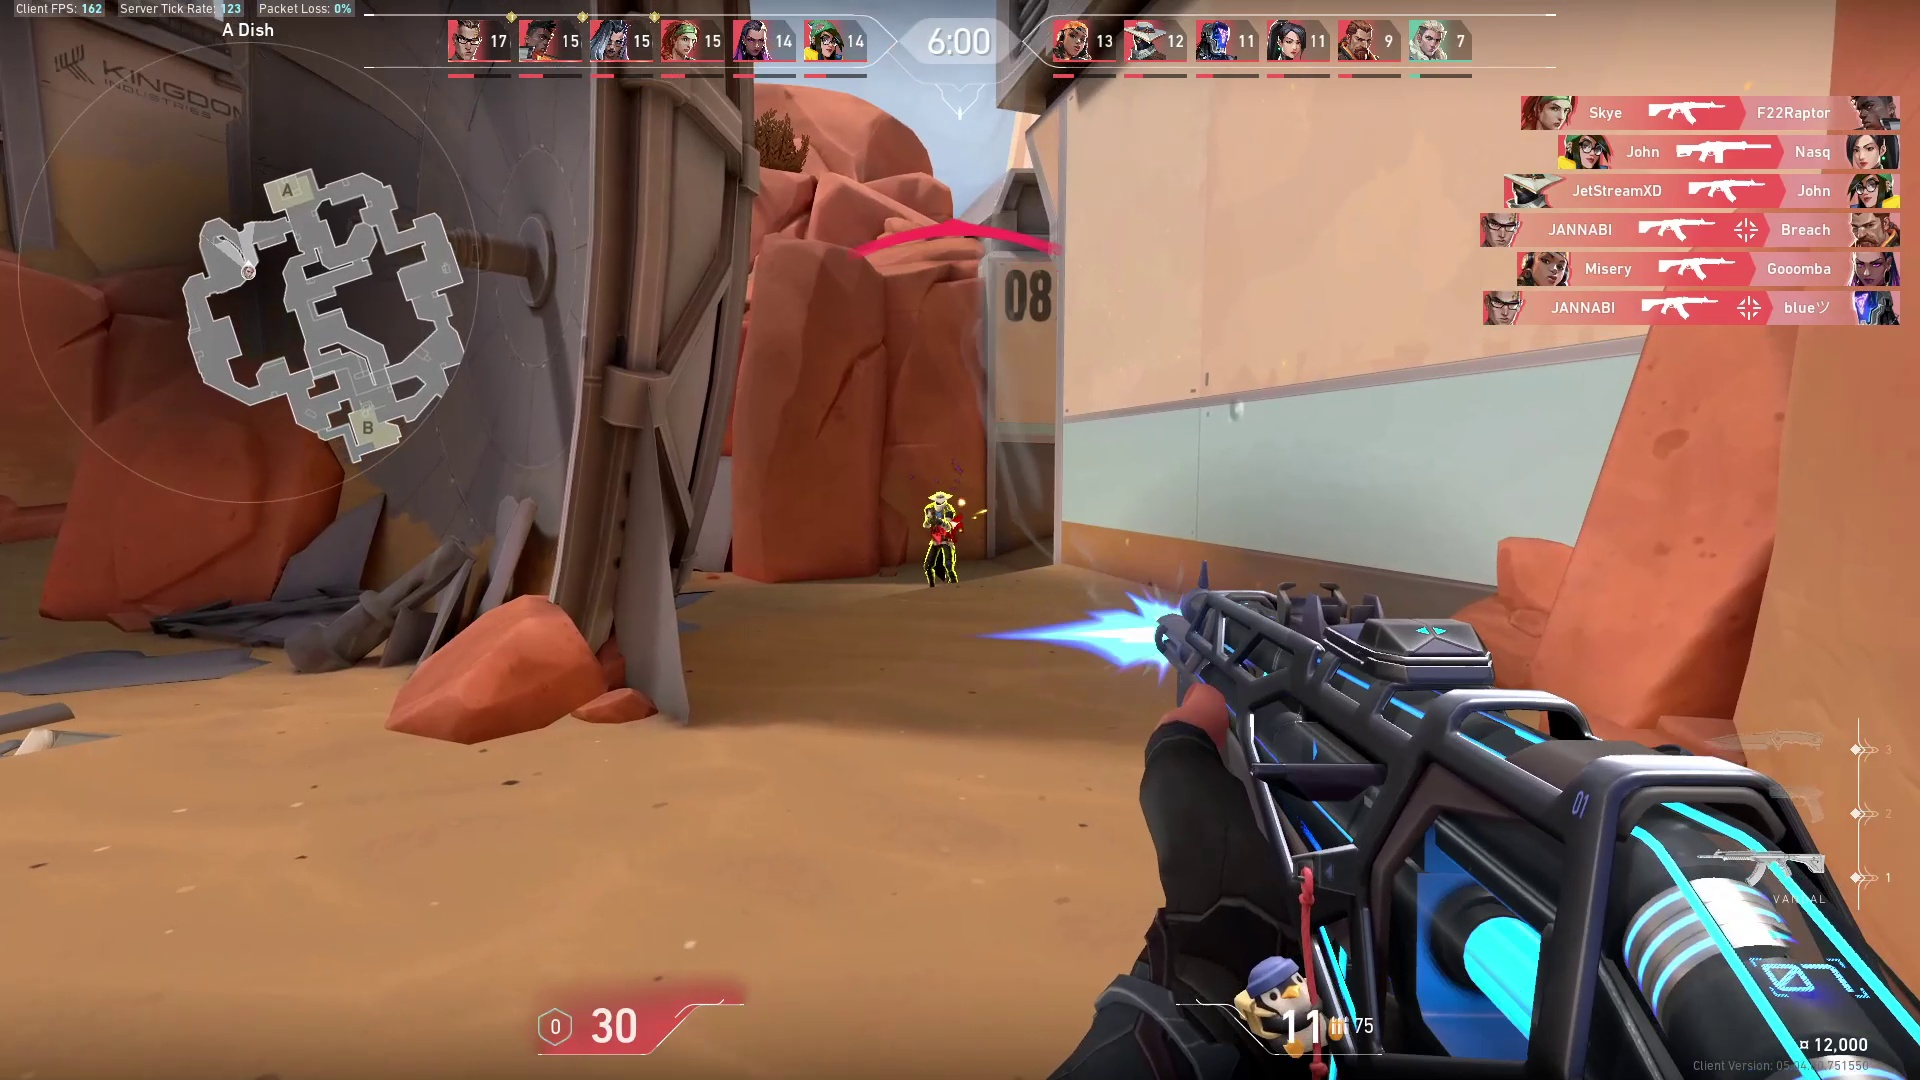enemy_body: (920, 500, 964, 587)
enemy_head: (928, 487, 953, 506)
